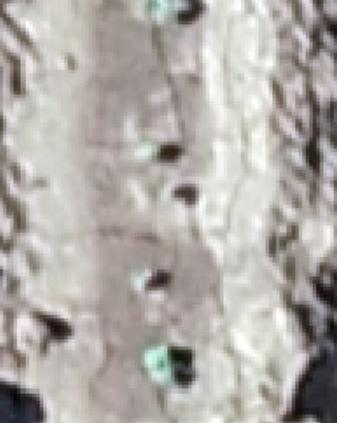cotton: (147, 349, 170, 384), (150, 1, 176, 21), (140, 137, 157, 158), (133, 274, 147, 288)
